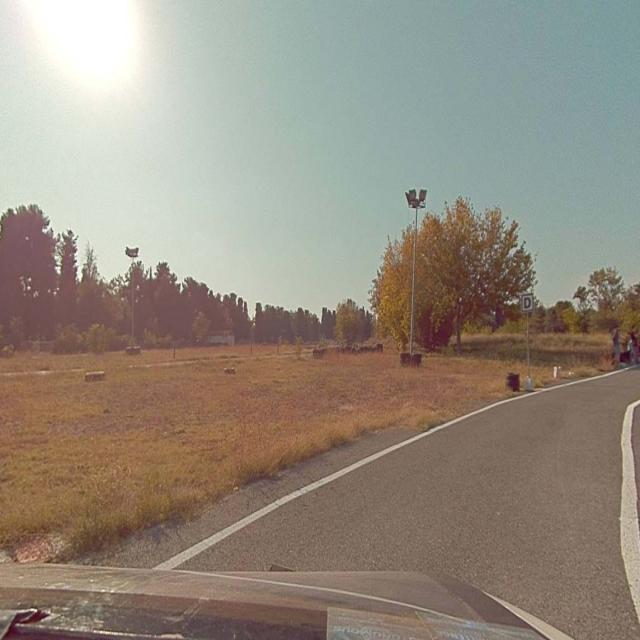durak: (522, 293, 534, 311)
